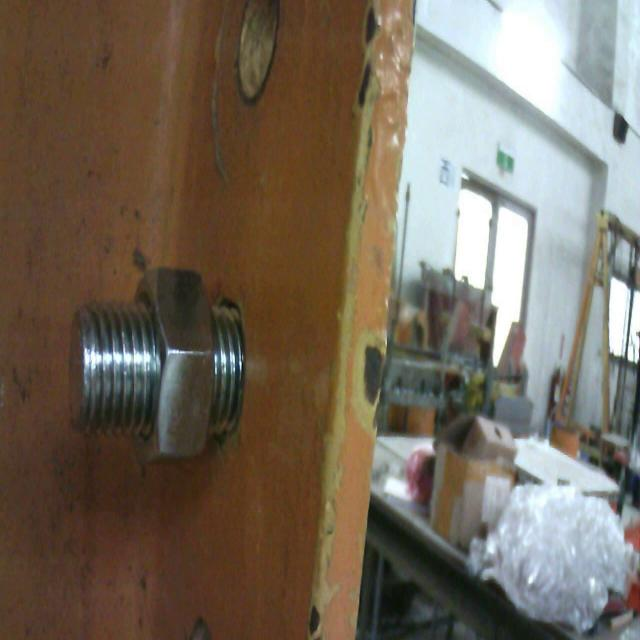Loose bolt: (74, 266, 245, 457)
Missing bolt: (233, 4, 283, 106)
Regular bolt: (73, 262, 247, 453)
